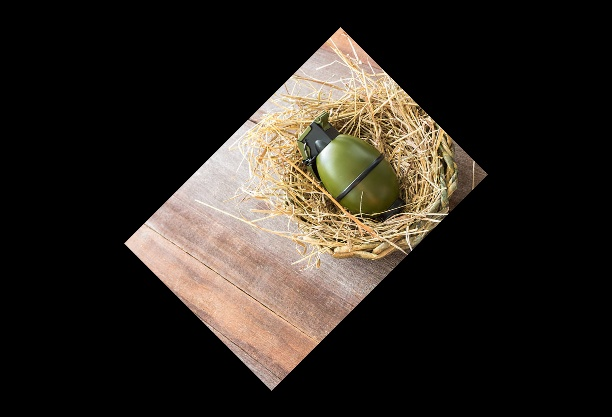e1: (295, 109, 407, 217)
